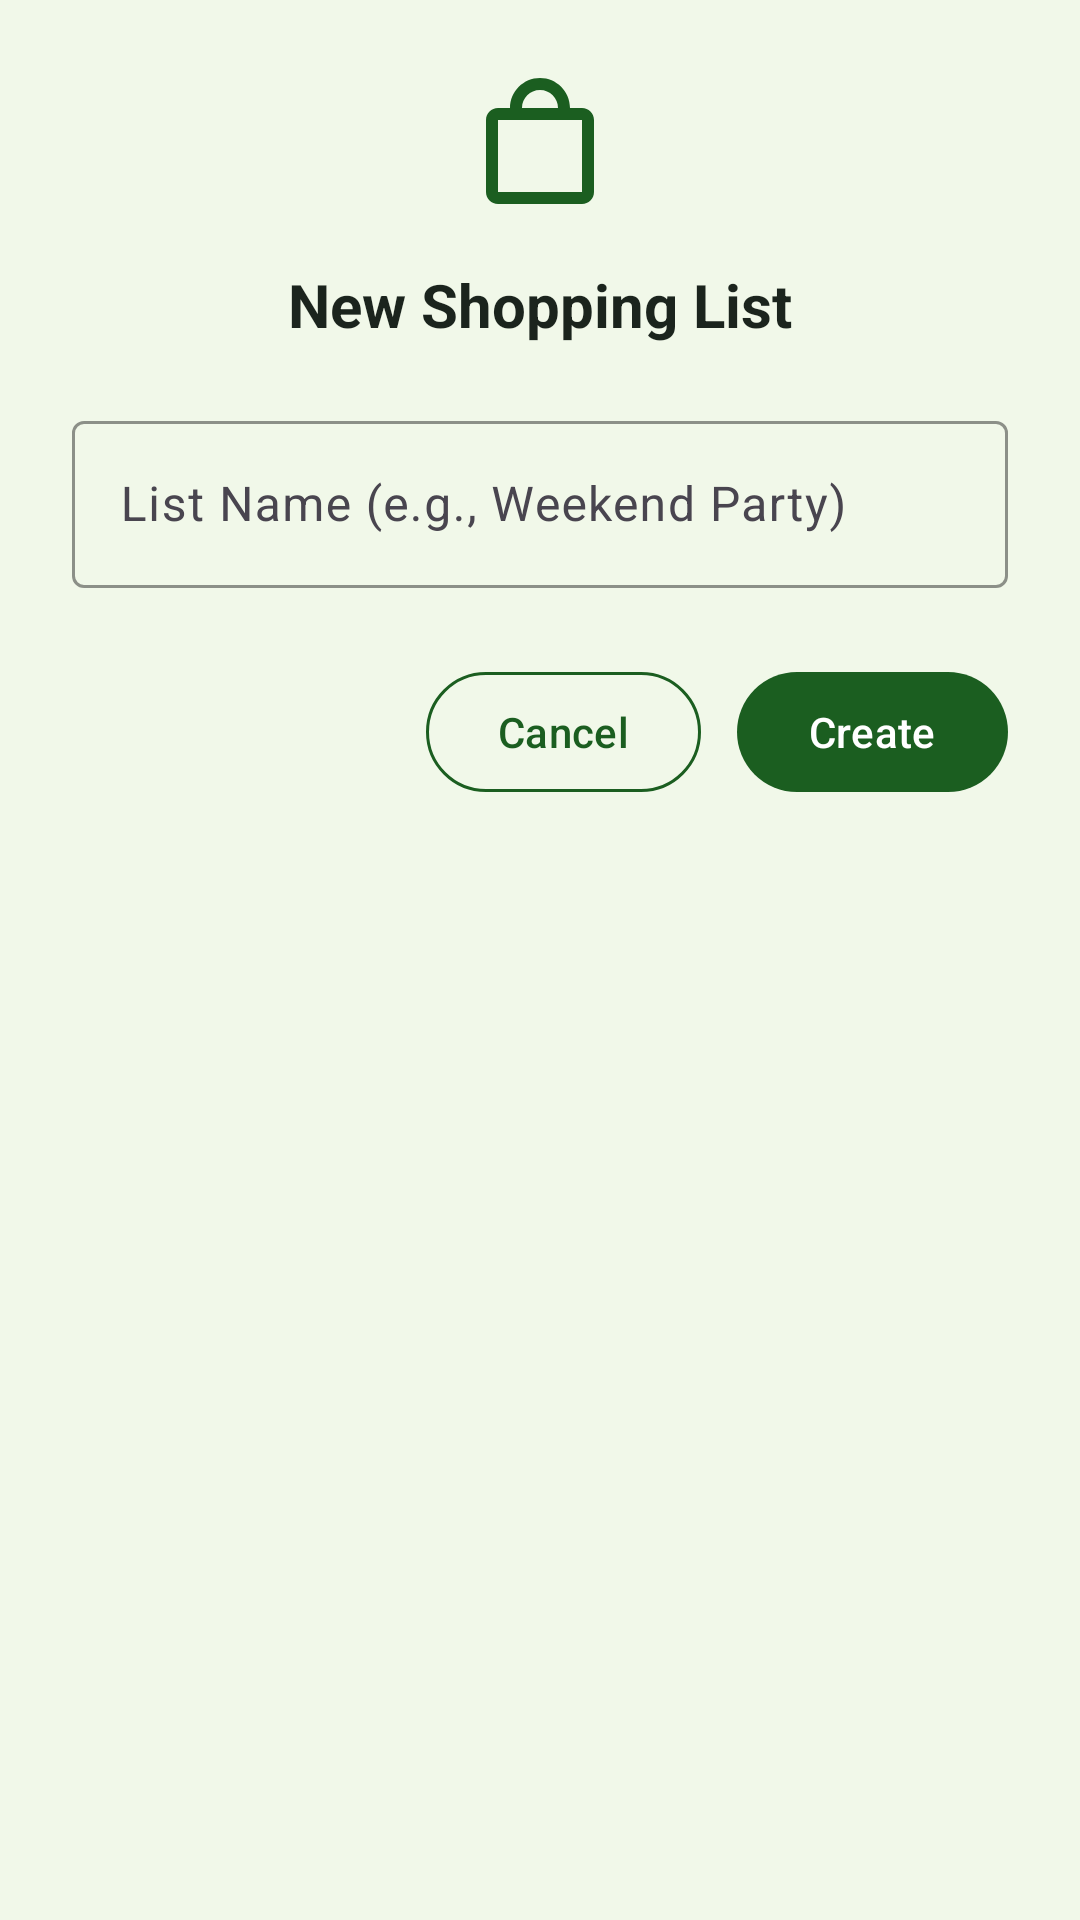

Locate icon controls on the screen. Image size 1080x1920, boxes as (x1, y1, x2, y2).
shopping bag: (486, 78, 594, 204)
